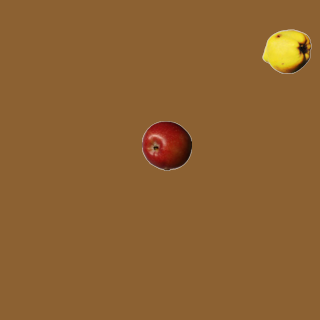Apple Braeburn: (141, 120, 191, 170)
Quince: (261, 26, 311, 76)
